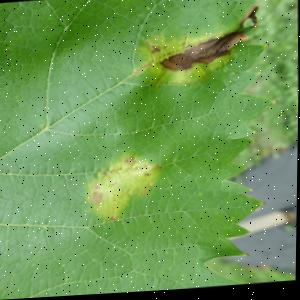Folha: (0, 0, 280, 300)
Fungo: (83, 151, 163, 224), (157, 32, 249, 75), (122, 158, 136, 168)
